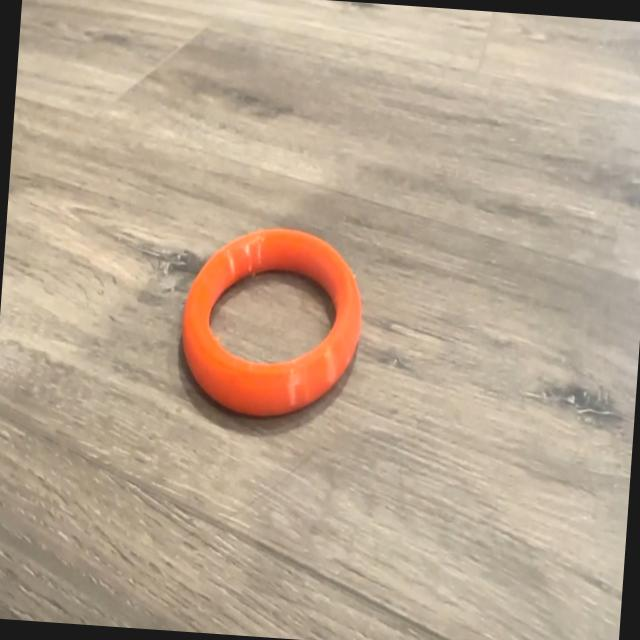note: (174, 221, 368, 428)
